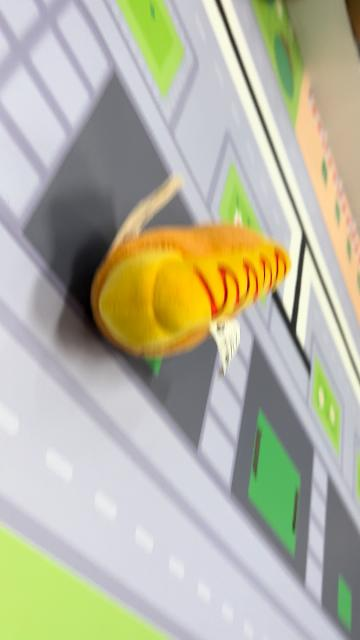hotdog: (91, 220, 293, 362)
